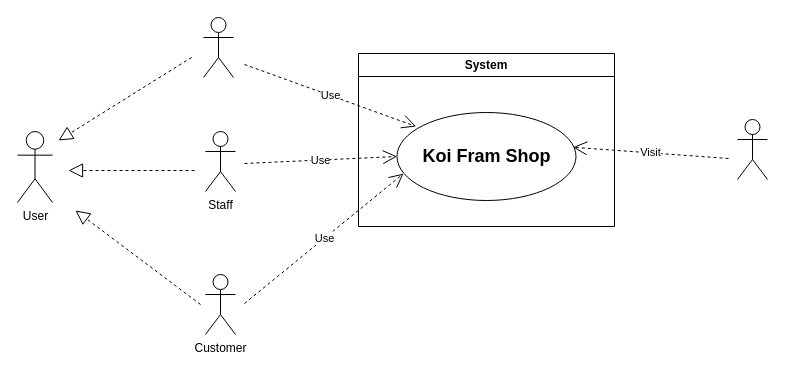
This 786x373 diagram has some shape labels left out. Each missing label, with the centre of its shape:
Guest: (x=752, y=149)
Manager: (x=218, y=47)
